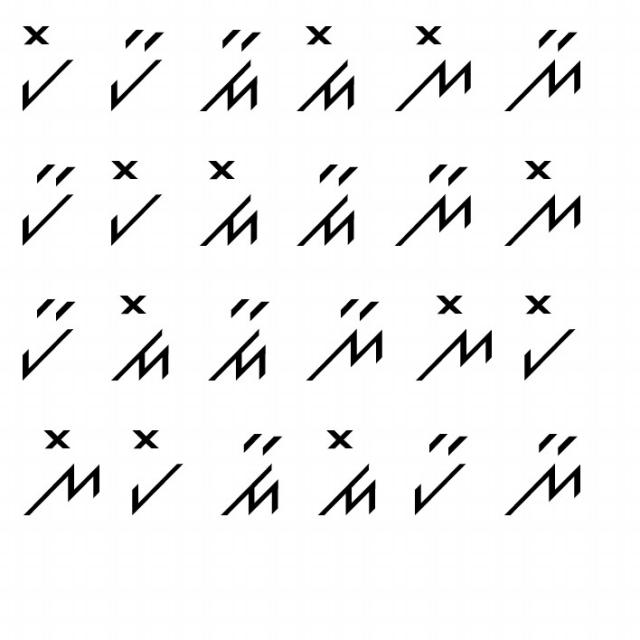dan: (212, 420, 292, 526), (199, 288, 282, 389), (292, 151, 362, 252), (198, 22, 265, 126)
do: (285, 14, 368, 116), (310, 419, 385, 527), (110, 283, 176, 389), (194, 156, 262, 253)
nan: (499, 17, 591, 123), (501, 424, 593, 527), (300, 293, 389, 389), (387, 157, 475, 252)
no: (388, 13, 478, 124), (20, 416, 107, 525), (501, 147, 586, 258), (413, 282, 496, 390)
pan: (94, 13, 180, 119), (402, 425, 476, 520), (13, 153, 78, 252), (15, 292, 81, 389)
po: (98, 148, 168, 250), (512, 284, 580, 387), (11, 13, 78, 114), (116, 425, 186, 521)
